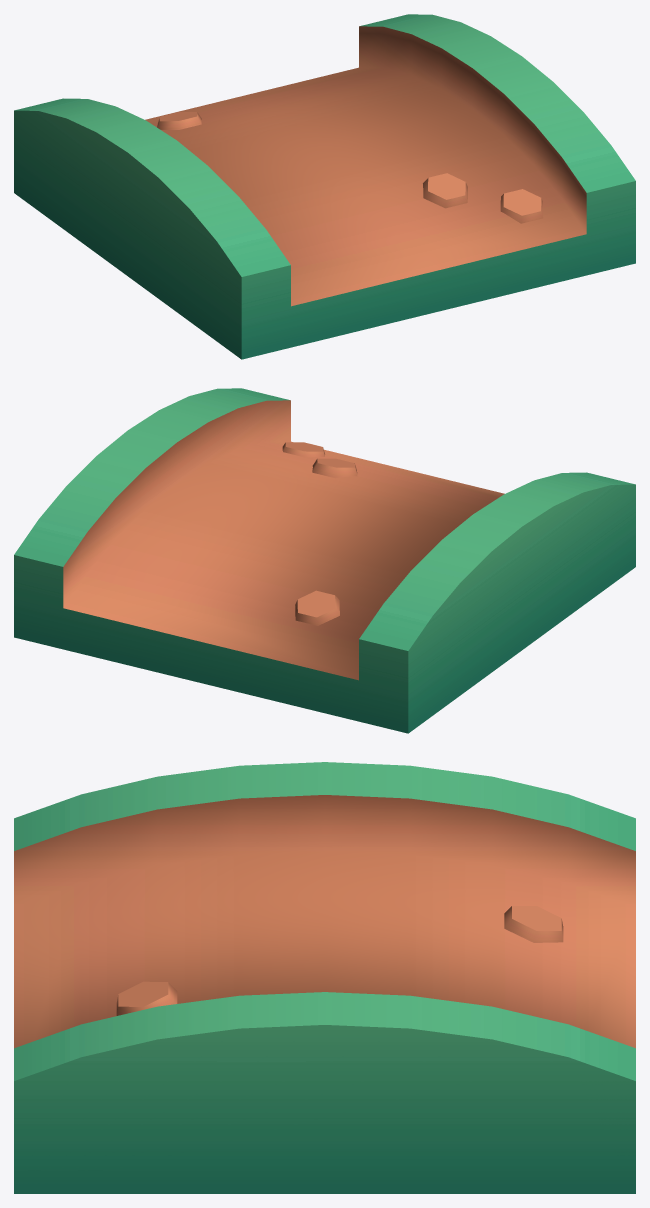
The model's file is kenney-tower-defense-tile-bump.glb.
3 renders of one model, top to bottom at view 1: azimuth 30°, elevation 25°; view 2: azimuth 150°, elevation 25°; view 3: azimuth 270°, elevation 25°, orthographic. The views are drawn at different scales.
Visible parts, largest first — view 1: tile-bump; view 2: tile-bump; view 3: tile-bump.
Part boxes in pixels (bbox=[...]): tile-bump: bbox=[14, 14, 635, 359]; tile-bump: bbox=[14, 388, 635, 733]; tile-bump: bbox=[14, 762, 635, 1193].
Size of the model in its own units: 1 by 0.3 by 1.
1 material, 1 textured.
